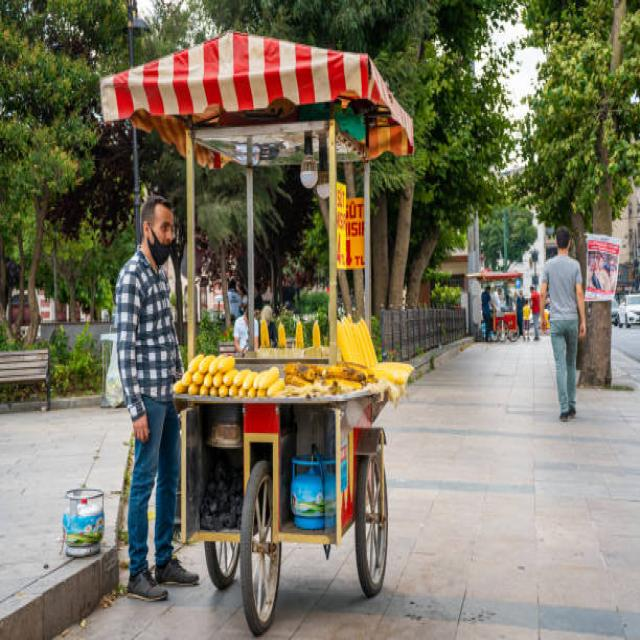Emperan: (94, 16, 422, 636)
